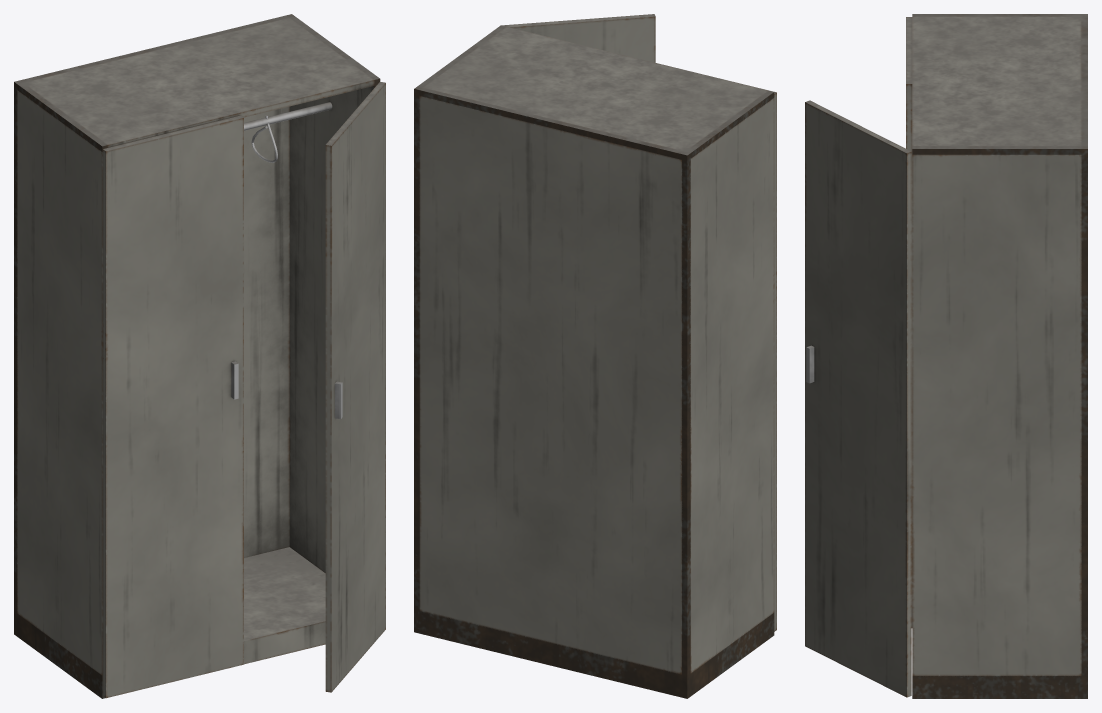
Rendered from SM_Wardrobe_Wooden.fbx.
3 views of the same model, side by side, from view 1: azimuth 30°, elevation 25°; view 2: azimuth 150°, elevation 25°; view 3: azimuth 270°, elevation 25° (orthographic).
Parts seen in each view (by area): view 1: SM_Wardrobe_Wooden; view 2: SM_Wardrobe_Wooden; view 3: SM_Wardrobe_Wooden.
Boxes of the visible parts, left/top/right/bottom form: SM_Wardrobe_Wooden: left=14, top=14, right=385, bottom=698; SM_Wardrobe_Wooden: left=414, top=14, right=776, bottom=698; SM_Wardrobe_Wooden: left=805, top=14, right=1087, bottom=698.
Size of the model in its own units: 1.01 by 1.9 by 0.8854.
Materials: 1 (1 with a texture image).
